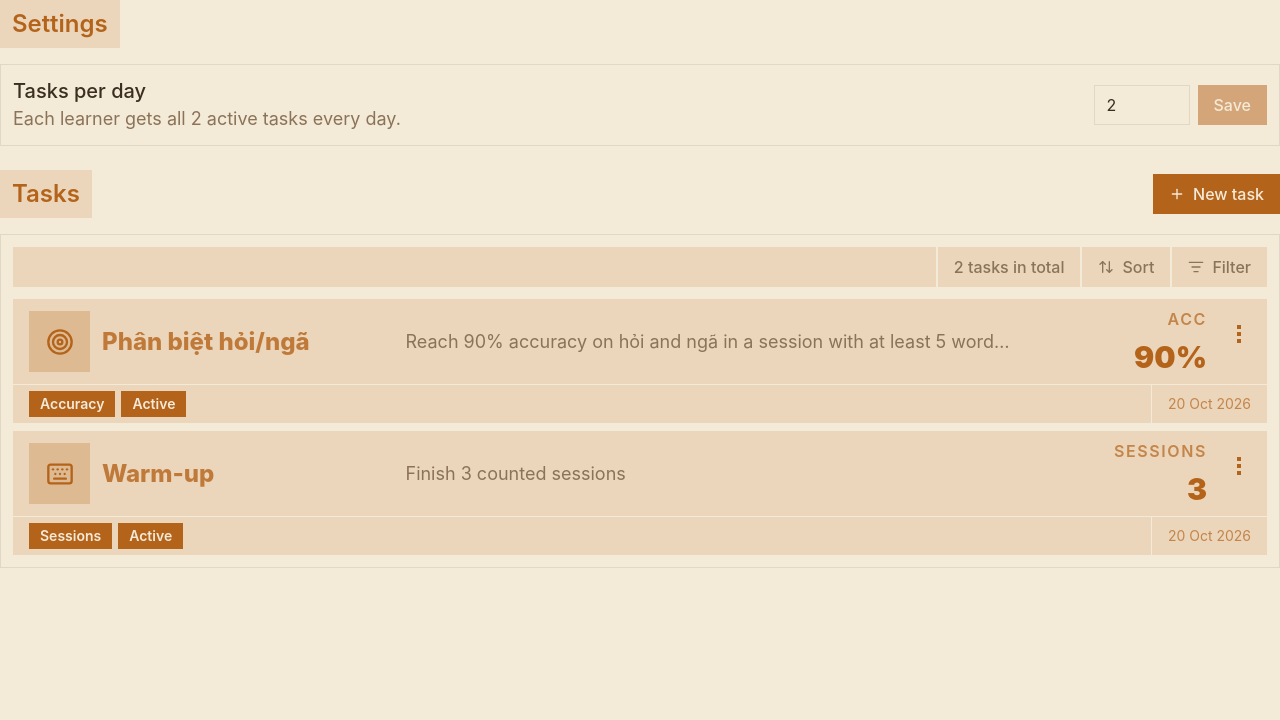
Test case: AdminDailyTasksPage › prefills the focus error of the task being edited, and None takes it away
The width and height of the screenshot is (1280, 720).
Click the button named "Actions for Phân biệt hỏi/ngã": (1239, 334) [1223,318,1255,350]
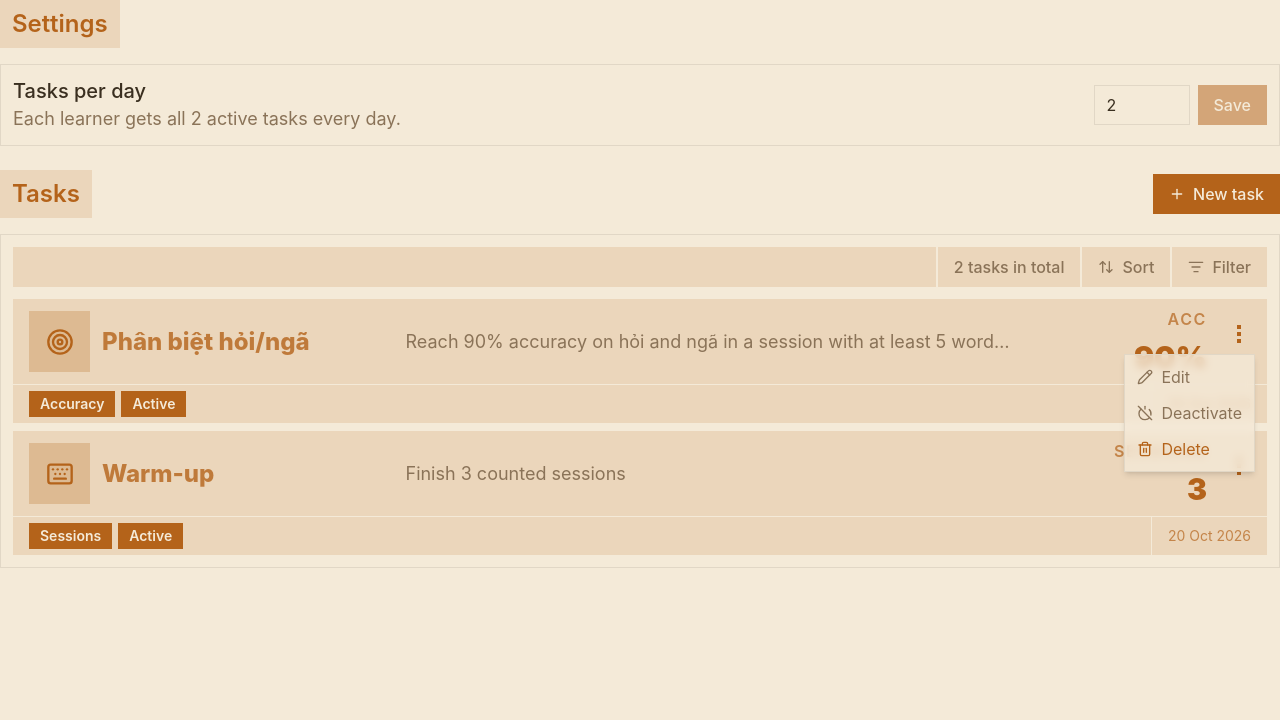
Click the menu item "Edit": (1164, 377) [1137,367,1190,387]
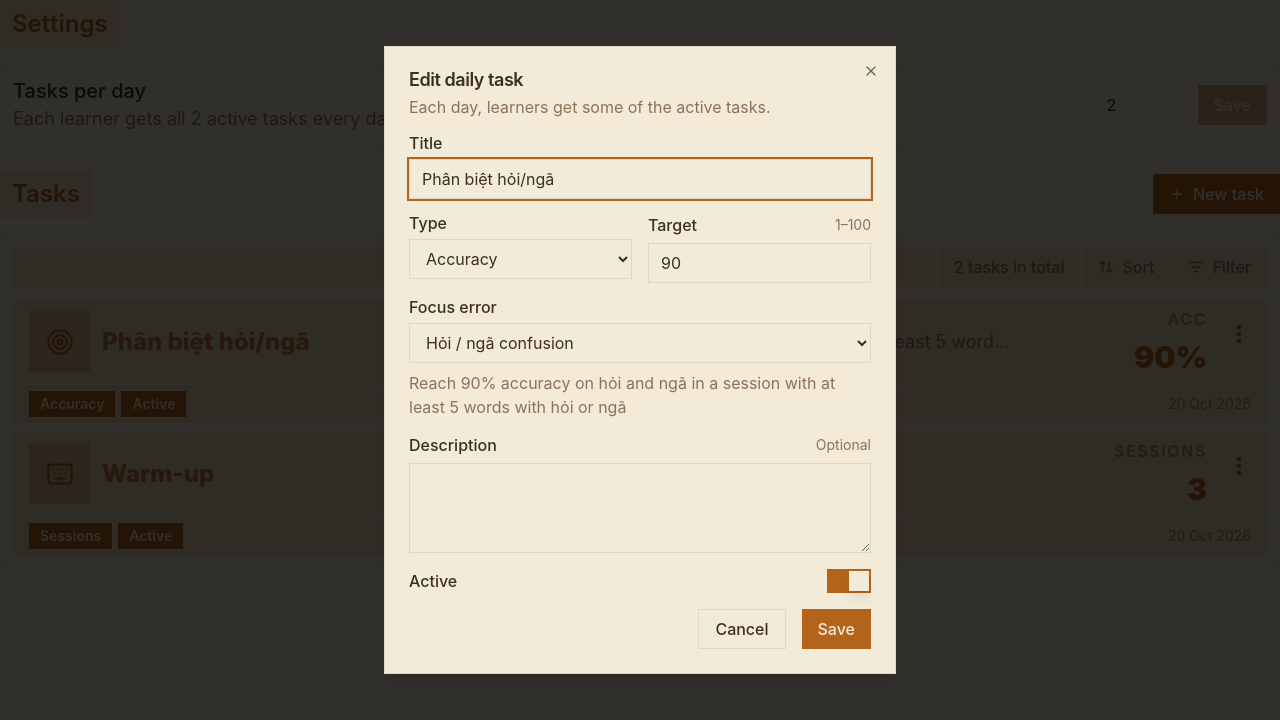
Result: the dropdown labelled "Type" shows "Accuracy" at [409,239,632,279]
Result: the dropdown labelled "Focus error" shows "Hỏi / ngã confusion"
Result: the text "Reach 90% accuracy on hỏi and ngã in a session with at least 5 words with hỏi or ngã" is shown at [409,373,835,417]
Select "None" in the dropdown labelled "Focus error": (640, 343) [409,323,871,363]
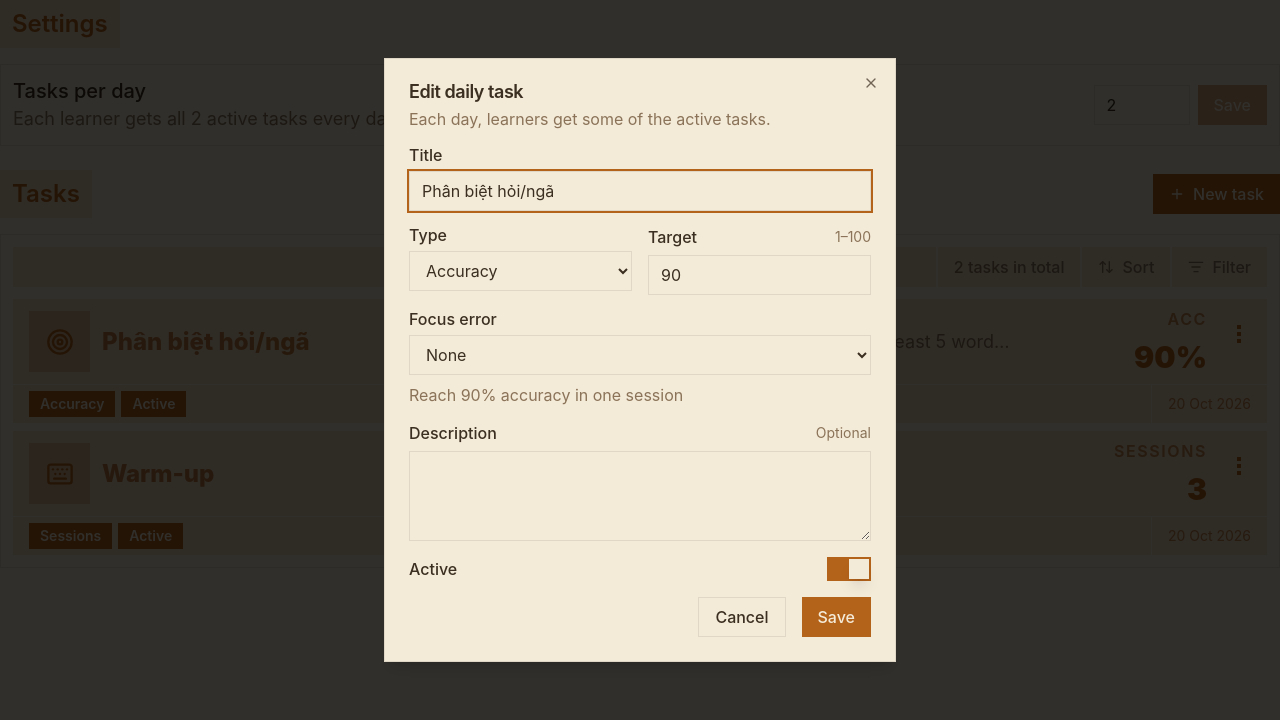
Result: the text "Reach 90% accuracy in one session" is shown at [409,385,683,405]
Click the button "Save": (836, 617) [802,597,871,637]
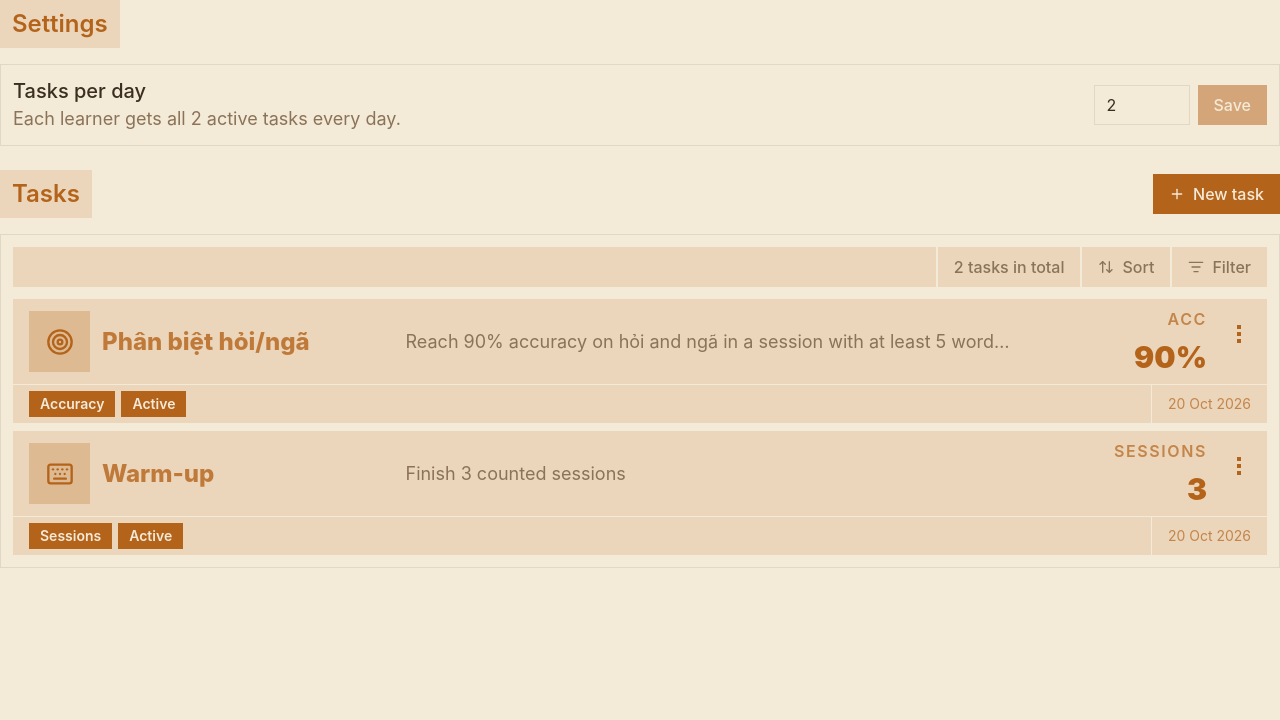
Result: the dialog is gone
